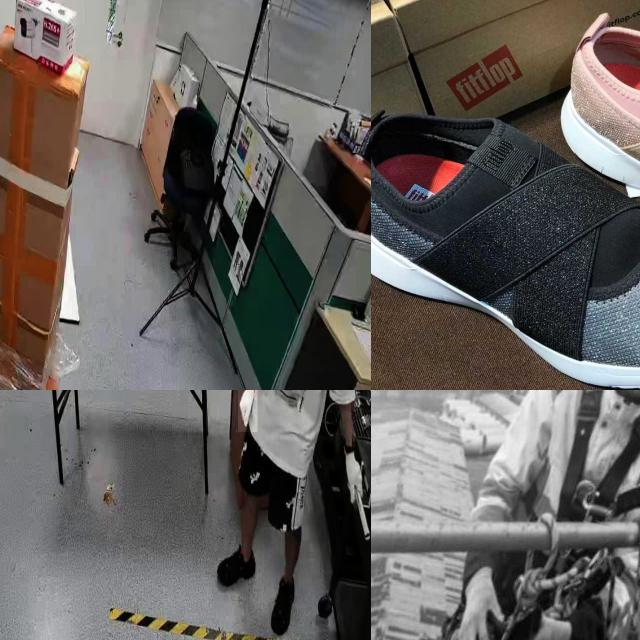Harness: (558, 390, 640, 521)
Sandals: (371, 74, 640, 390), (536, 0, 640, 305)
hand_glove: (340, 444, 368, 514), (238, 390, 257, 432)
person: (225, 390, 363, 640)
shoes: (266, 567, 298, 640), (216, 540, 258, 594)
